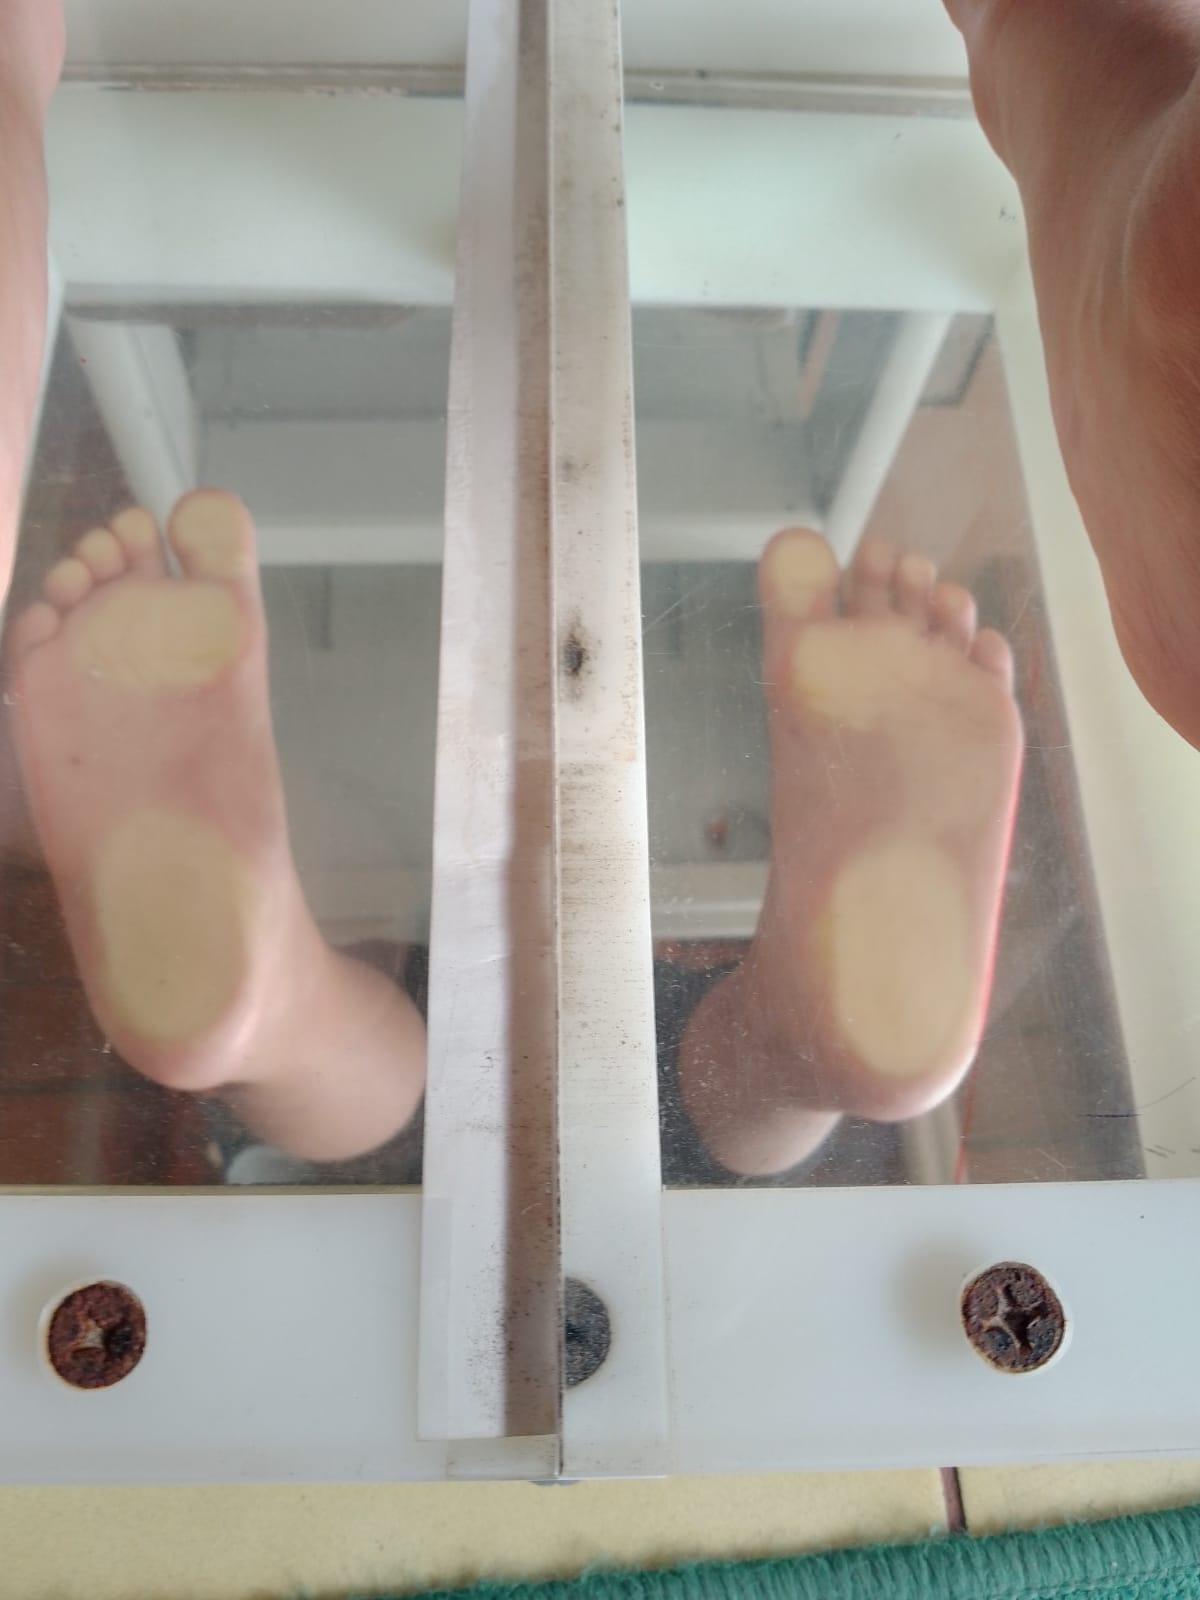1: (0, 475, 315, 1095)
Present: (735, 500, 1045, 1130)
